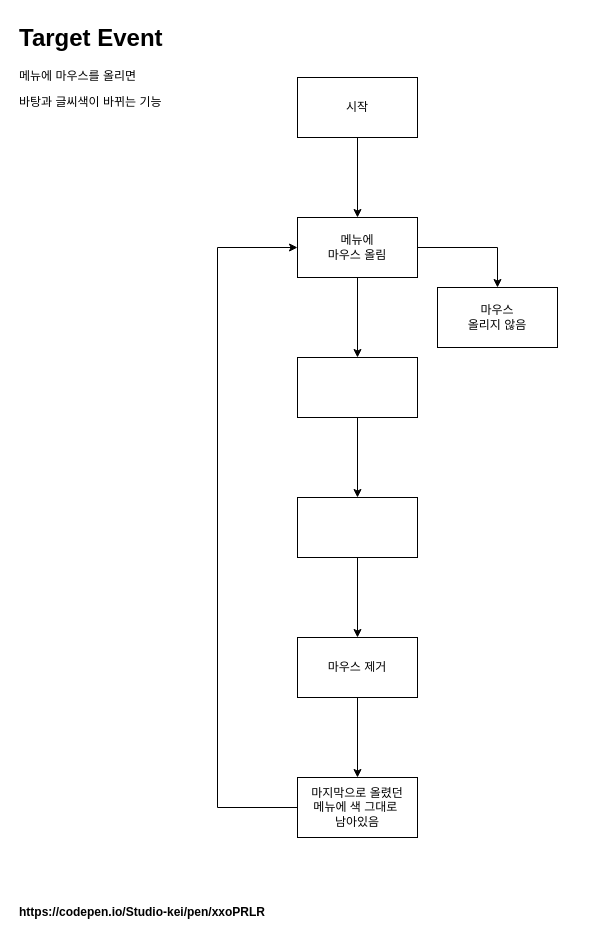
The diagram is 604 pixels wide and 947 high, and some of its shapes have lost their labels. The shapes that lost their labels are listed below. From the top down, each one's box as (x1, y1, x2, y2) in pixels, then its label:
(296, 356, 418, 418): 마우스 감지
(296, 496, 418, 558): 메뉴의 바탕 초록색 글씨는 하얀색으로 바뀜
